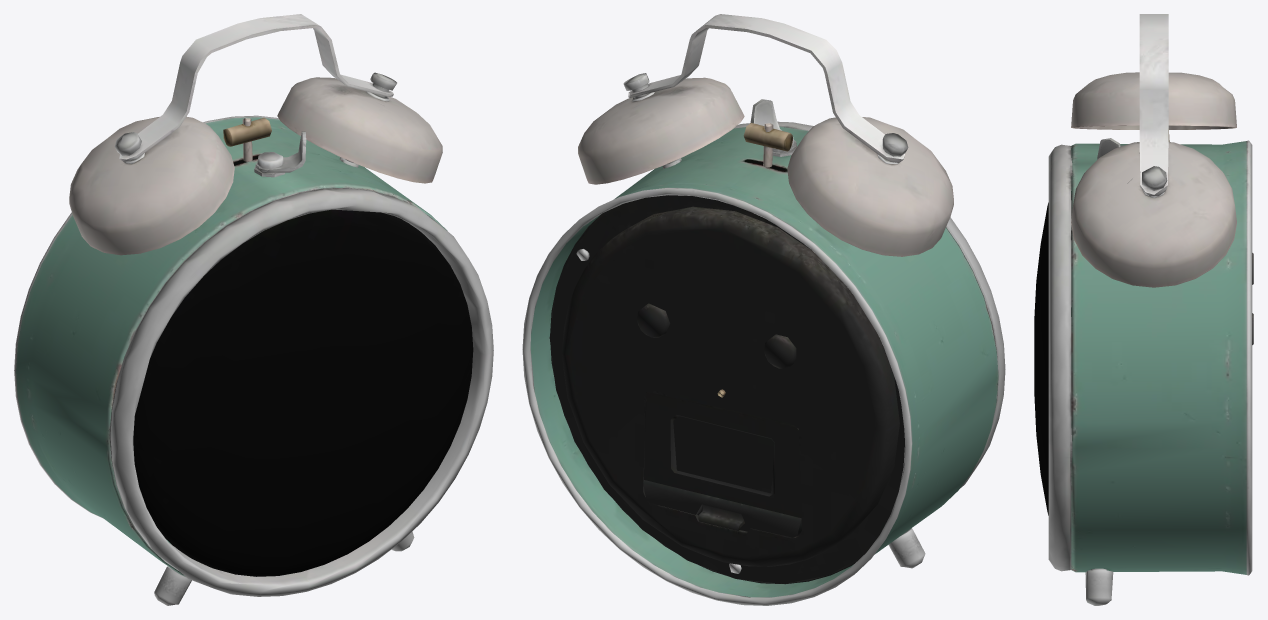
Rendered from alarm_clock_01.glb.
3 renders of one model, left to right at view 1: azimuth 30°, elevation 25°; view 2: azimuth 150°, elevation 25°; view 3: azimuth 270°, elevation 25°, orthographic. The views are drawn at different scales.
Visible parts, largest first — view 1: alarm_clock_01; view 2: alarm_clock_01; view 3: alarm_clock_01.
Boxes of the visible parts, x1=… form: alarm_clock_01: x1=14, y1=14, x2=493, y2=605; alarm_clock_01: x1=522, y1=14, x2=1005, y2=605; alarm_clock_01: x1=1034, y1=14, x2=1253, y2=605.
Bounding box in the file's own units: 0.1316 × 0.1741 × 0.0662.
2 materials, 2 textured.
